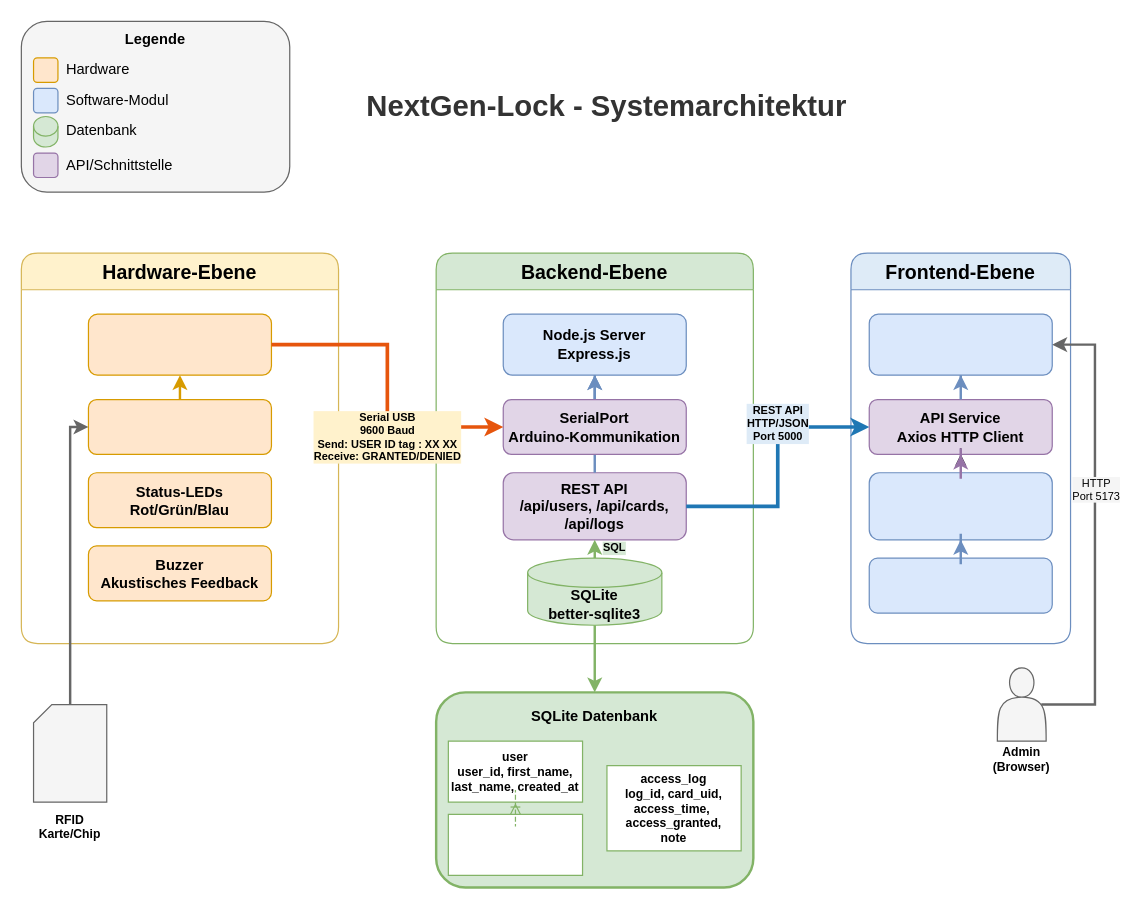
This 1141x910 diagram has some shape labels left out. The shapes that lost their labels are listed below. From the top down, each one's centre as x and y in pixels, then its label:
At (x=179, y=344): "Arduino Uno (Mikrocontroller)".
At (x=960, y=344): "React App Vite Build Tool".
At (x=179, y=426): "MFRC522 RFID-Reader".
At (x=960, y=506): "Pages Dashboard, Users, RFID Cards, Logs".
At (x=960, y=585): "UI Components TailwindCSS Styling".
At (x=515, y=844): "rfid_card card_uid, user_id, authorized, added_on".
